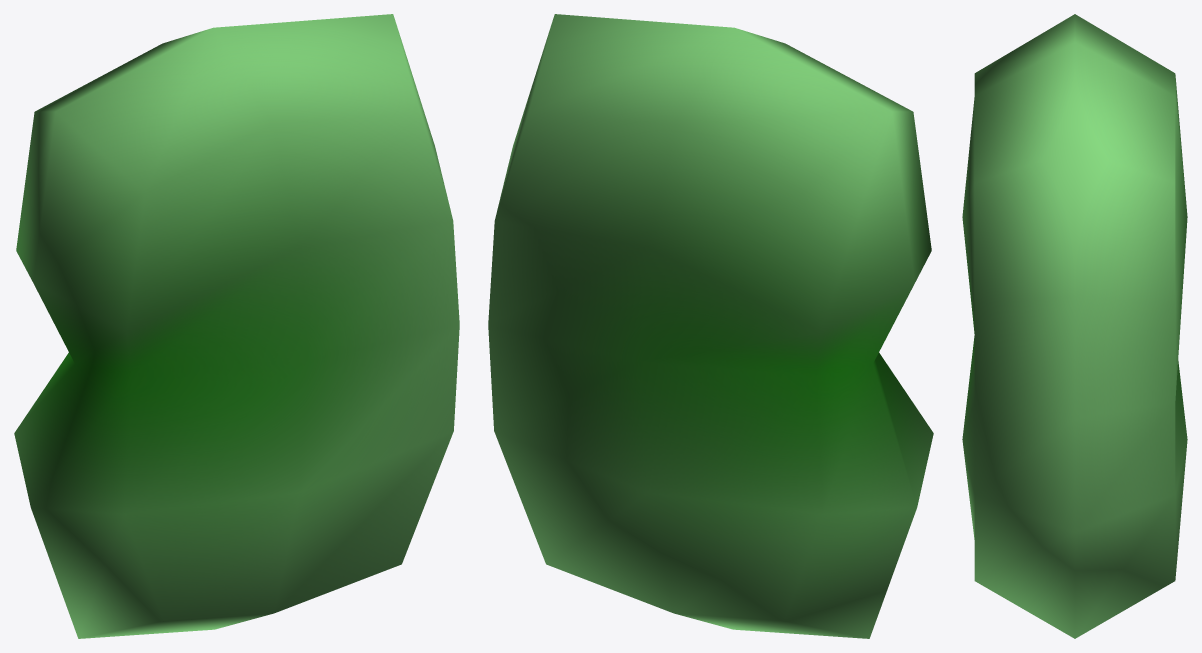
Rendered from Broadbean.FBX.
3 renders of one model, left to right at view 1: azimuth 30°, elevation 25°; view 2: azimuth 150°, elevation 25°; view 3: azimuth 270°, elevation 25°, orthographic. The views are drawn at different scales.
Parts seen in each view (by area): view 1: Broadbean; view 2: Broadbean; view 3: Broadbean.
Part boxes in pixels (box(x1,y1,x2,y2)): Broadbean: box(14, 14, 459, 638); Broadbean: box(488, 14, 933, 638); Broadbean: box(962, 14, 1187, 638).
Bounding box in the file's own units: 1.84 × 2.57 × 0.9585.
1 material, 1 textured.
